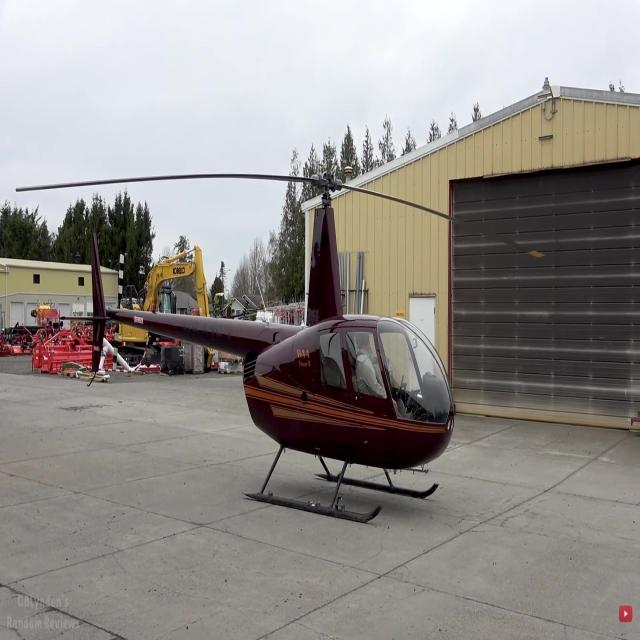CIV_HELO: (58, 171, 456, 527)
